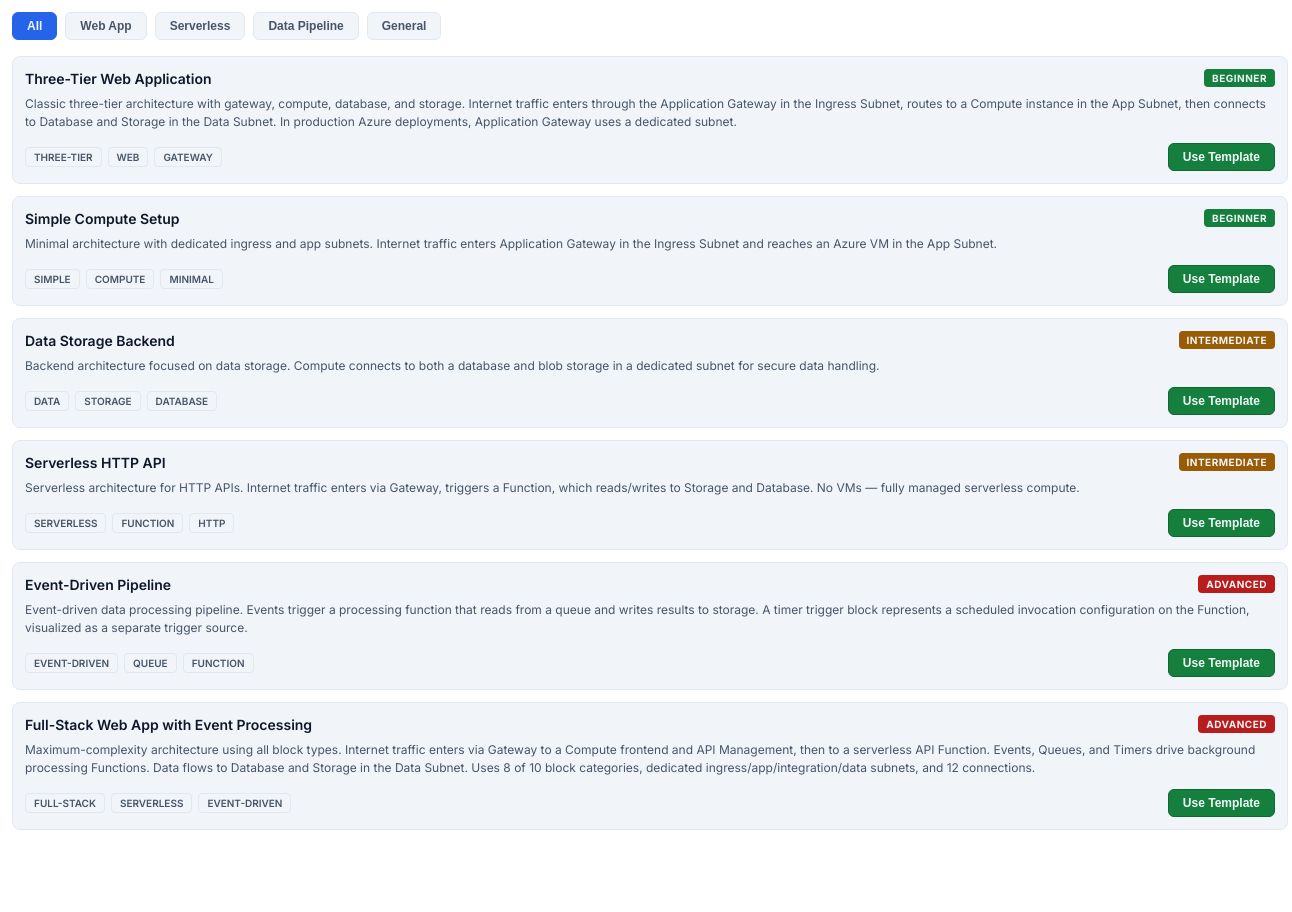
Test: TemplateGallery › filters templates when a category tab is clicked
This screenshot has width=1292, height=912.
Click the button "Serverless": (200, 26) [155, 12, 245, 40]
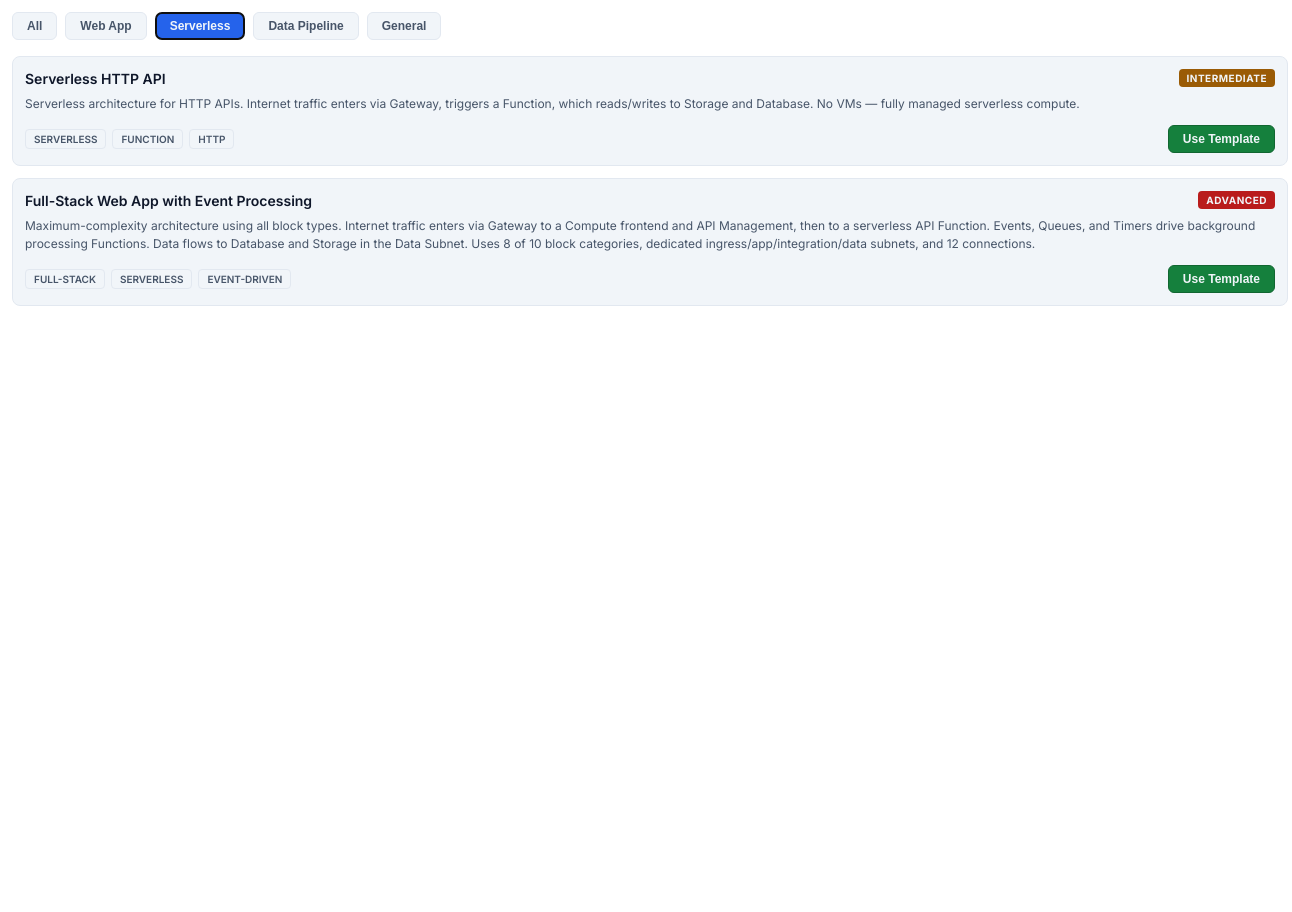
Expected: the text "Serverless HTTP API" is shown, [25, 70, 166, 86]
Expected: the text "Three-Tier Web Application" is gone
